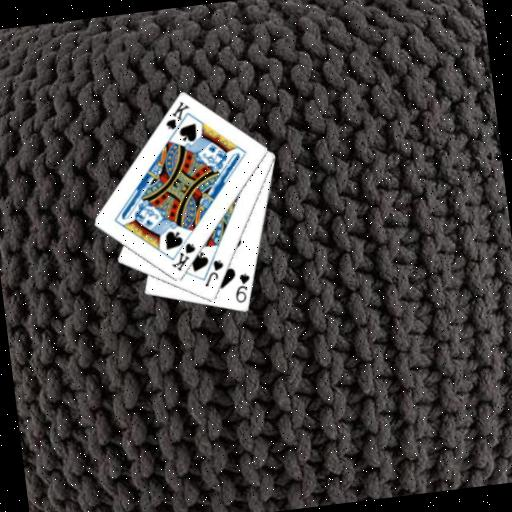9S: (230, 270, 254, 306)
JS: (199, 257, 227, 290)
KS: (161, 98, 194, 138), (166, 240, 200, 275)
